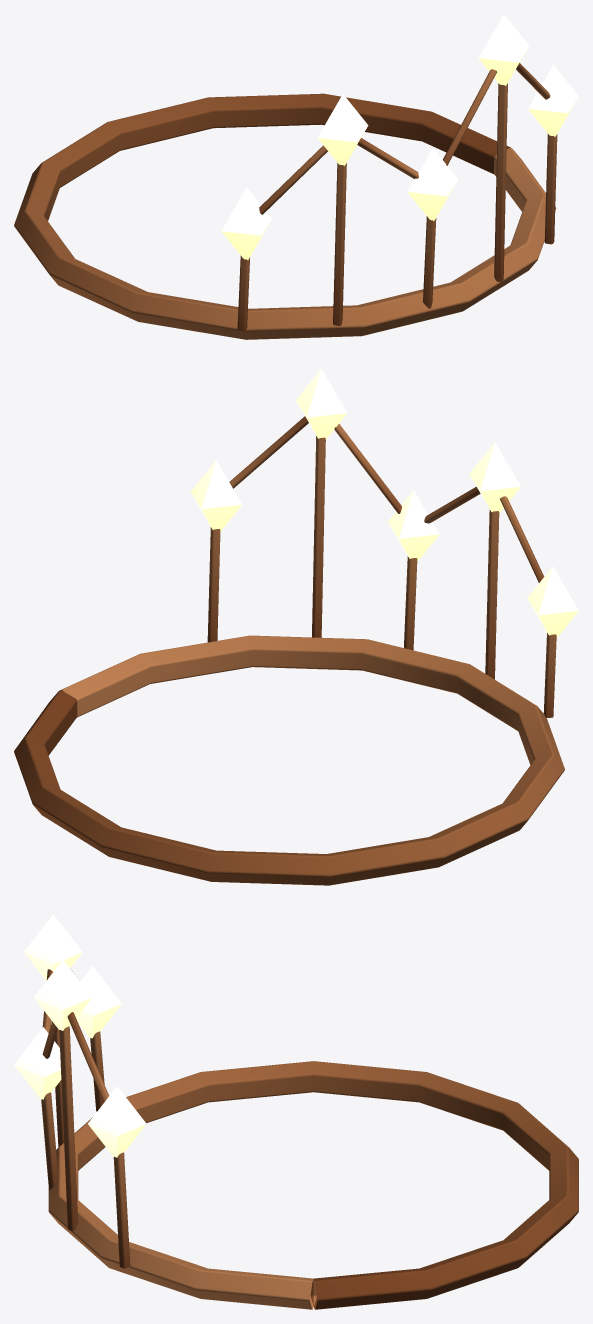
The model's file is lg_stargazer_circlet.glb.
3 renders of one model, top to bottom at view 1: azimuth 30°, elevation 25°; view 2: azimuth 150°, elevation 25°; view 3: azimuth 270°, elevation 25°, orthographic.
Parts seen in each view (by area): view 1: lg_stargazer_circlet, lg_stargazer_circlet_glow; view 2: lg_stargazer_circlet, lg_stargazer_circlet_glow; view 3: lg_stargazer_circlet, lg_stargazer_circlet_glow.
Boxes of the visible parts, <box> form: lg_stargazer_circlet: <box>14,63,557,339</box>; lg_stargazer_circlet_glow: <box>221,14,578,259</box>; lg_stargazer_circlet: <box>14,416,564,885</box>; lg_stargazer_circlet_glow: <box>190,368,578,637</box>; lg_stargazer_circlet: <box>41,968,578,1309</box>; lg_stargazer_circlet_glow: <box>14,914,146,1157</box>.
Size of the model in its own units: 2.21 by 1.28 by 2.3.
